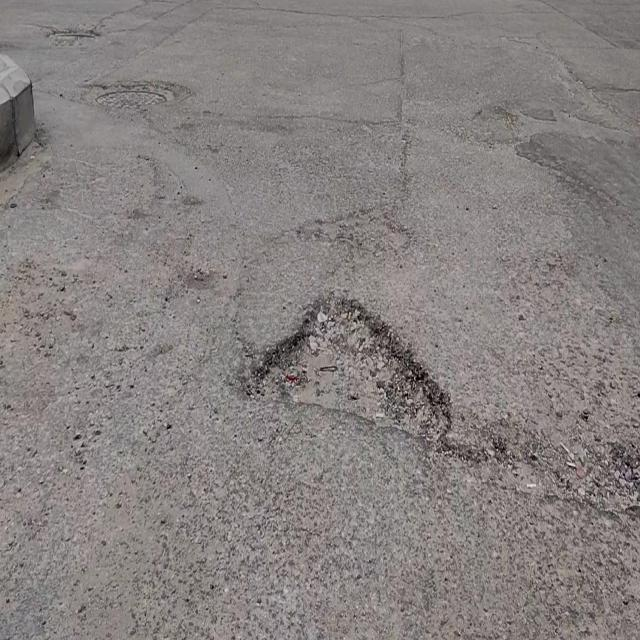Potholes: (251, 292, 453, 455)
